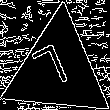L_SE: (36, 40, 80, 100)
